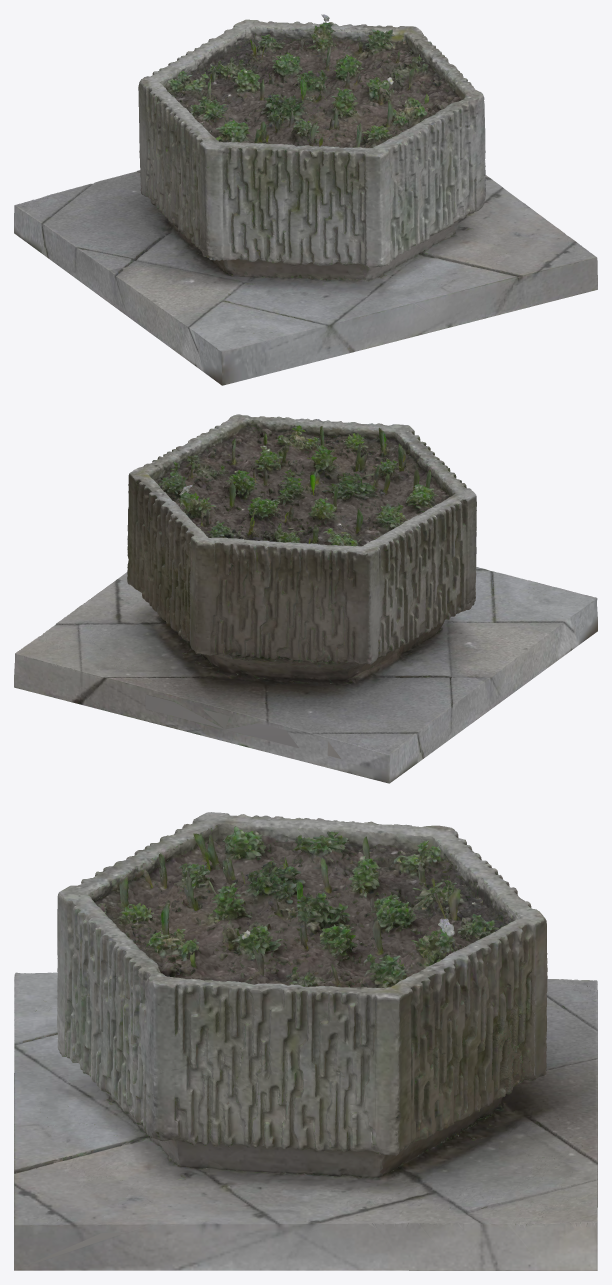
The model's file is sf-brutal-outdoor-concrete-hexagon-flower-p-e40816.glb.
3 renders of one model, top to bottom at view 1: azimuth 30°, elevation 25°; view 2: azimuth 150°, elevation 25°; view 3: azimuth 270°, elevation 25°, orthographic. The views are drawn at different scales.
Parts seen in each view (by area): view 1: meshNode_Material_u1_v1_0; view 2: meshNode_Material_u1_v1_0; view 3: meshNode_Material_u1_v1_0.
Boxes of the visible parts, x1,y1,x2,y2 form: meshNode_Material_u1_v1_0: [14, 14, 597, 385]; meshNode_Material_u1_v1_0: [14, 414, 597, 783]; meshNode_Material_u1_v1_0: [14, 812, 597, 1270].
Size of the model in its own units: 1.38 by 0.6906 by 1.33.
Materials: 1 (1 with a texture image).
